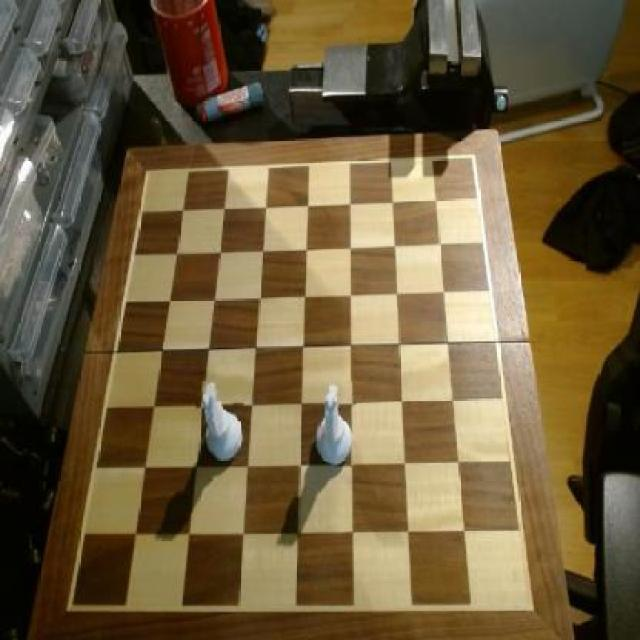white-king: (197, 377, 248, 465), (314, 382, 357, 468)
